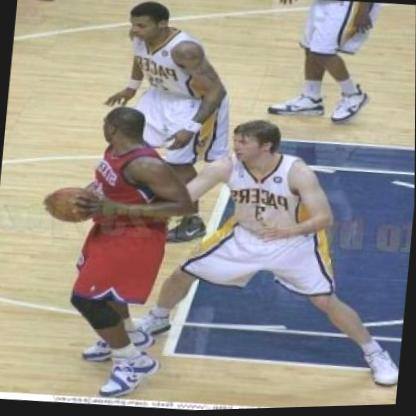basketball: (47, 183, 100, 229)
